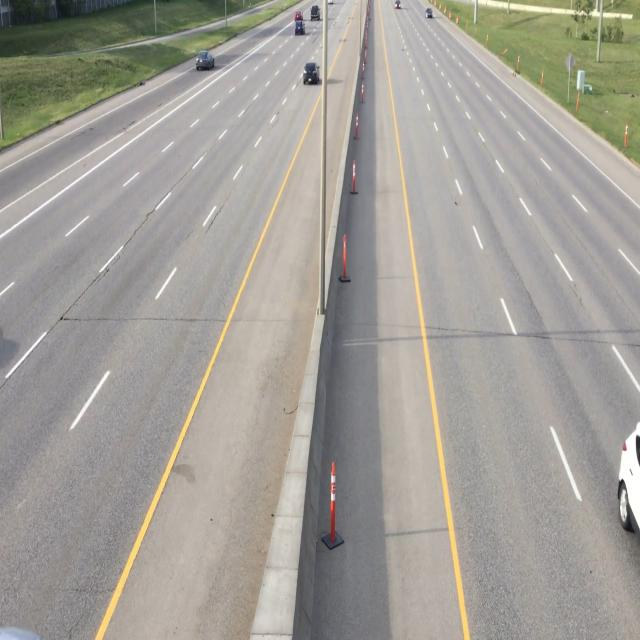Car: (194, 48, 214, 75), (301, 59, 320, 87)
